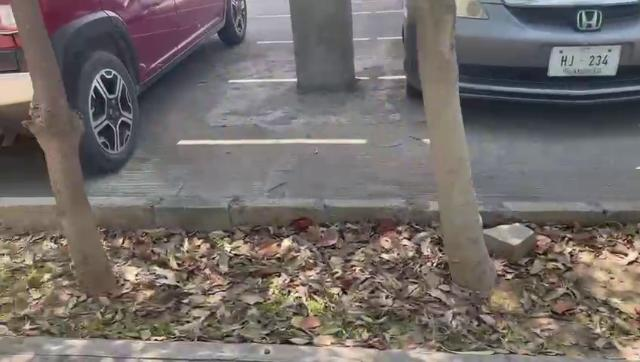plate: (545, 44, 621, 82)
